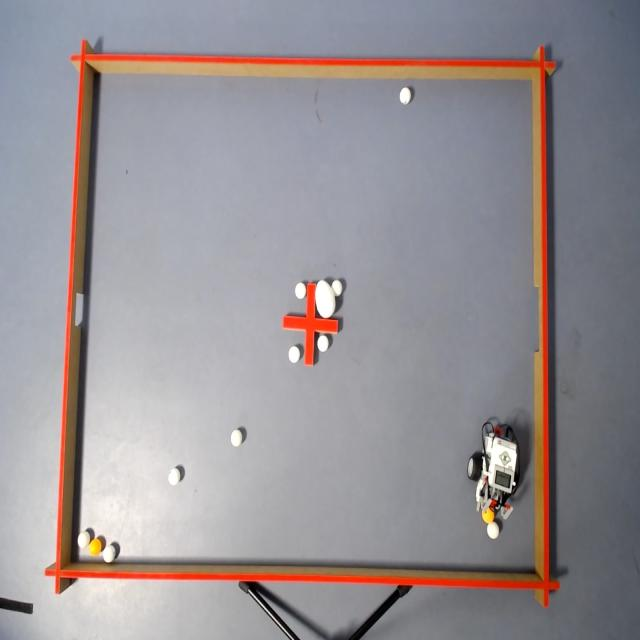boundaries: (44, 32, 98, 596), (42, 558, 564, 612), (70, 38, 558, 87), (529, 44, 563, 614)
cross: (282, 281, 340, 366)
egg: (312, 278, 336, 318)
large_goal: (524, 259, 560, 372)
orange_ball: (87, 536, 103, 560), (480, 504, 496, 525)
robot: (465, 416, 519, 523)
small_goal: (59, 272, 96, 345)
white_ball: (396, 85, 415, 109), (76, 527, 92, 551), (167, 466, 183, 490), (230, 425, 245, 450), (102, 543, 117, 564), (318, 332, 330, 356), (287, 343, 300, 365), (487, 521, 500, 543), (331, 277, 343, 297), (294, 280, 306, 300)
